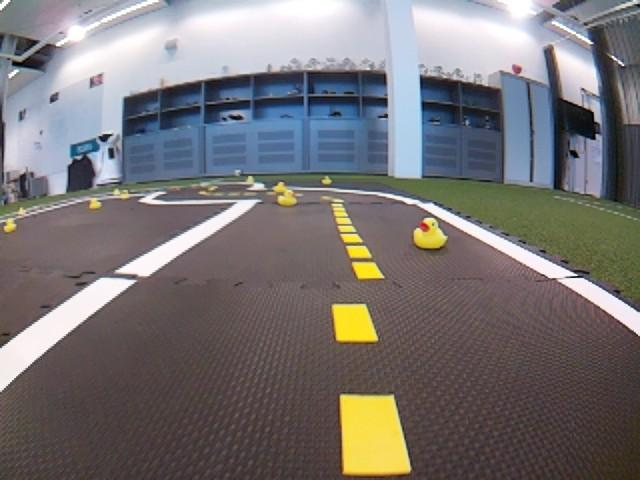Duckies: (412, 217, 448, 250), (277, 190, 297, 206), (4, 217, 16, 232), (272, 182, 287, 191), (88, 199, 101, 208), (321, 175, 332, 185), (120, 191, 132, 200), (17, 208, 26, 214), (246, 176, 254, 182), (114, 189, 121, 195)
